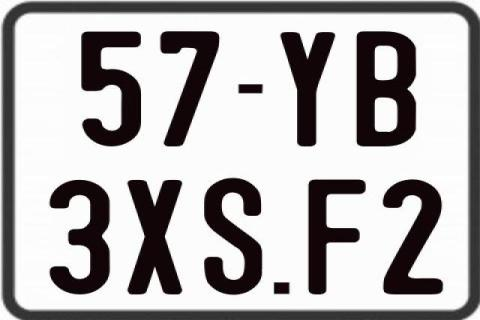0: (382, 177, 446, 293), (158, 29, 218, 149), (50, 177, 110, 297), (80, 29, 140, 147)
B: (354, 30, 413, 146)
F: (306, 177, 367, 295)
S: (204, 176, 264, 294)
X: (128, 178, 184, 294)
Y: (278, 31, 332, 146)
